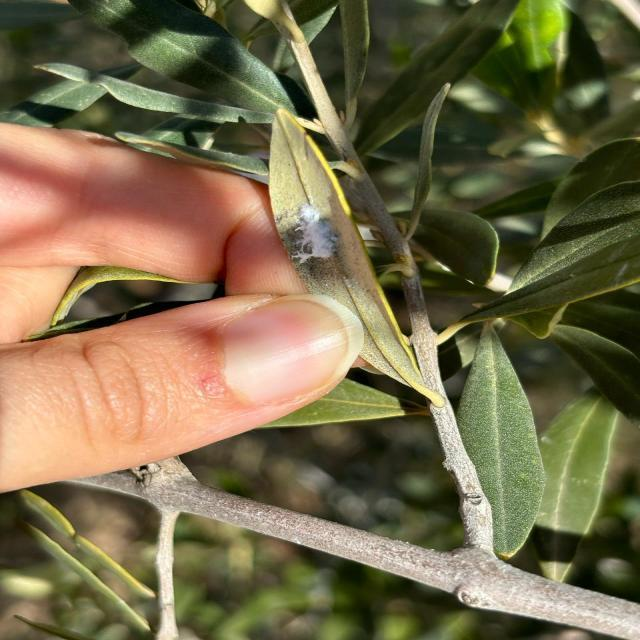Psyllid: (268, 109, 444, 404)
